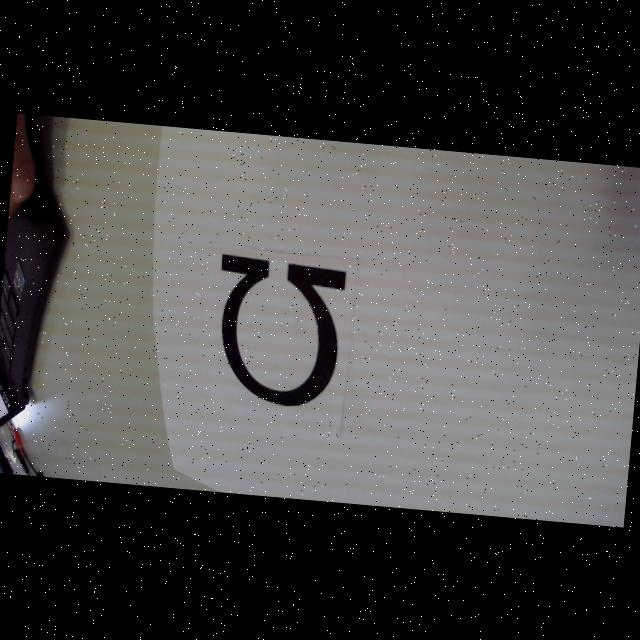OMEGA: (210, 253, 346, 410)
